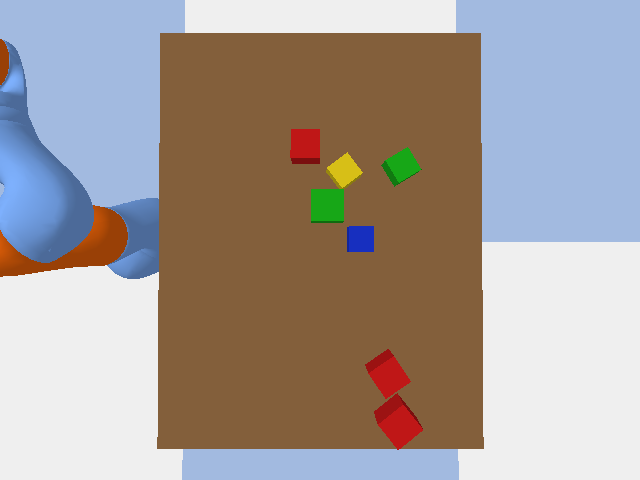blue_obj: (347, 226, 373, 251)
green_obj: (381, 147, 421, 186), (311, 189, 343, 222)
red_obj: (374, 393, 422, 449), (365, 349, 410, 398), (290, 129, 319, 163)
yellow_obj: (326, 152, 362, 188)
